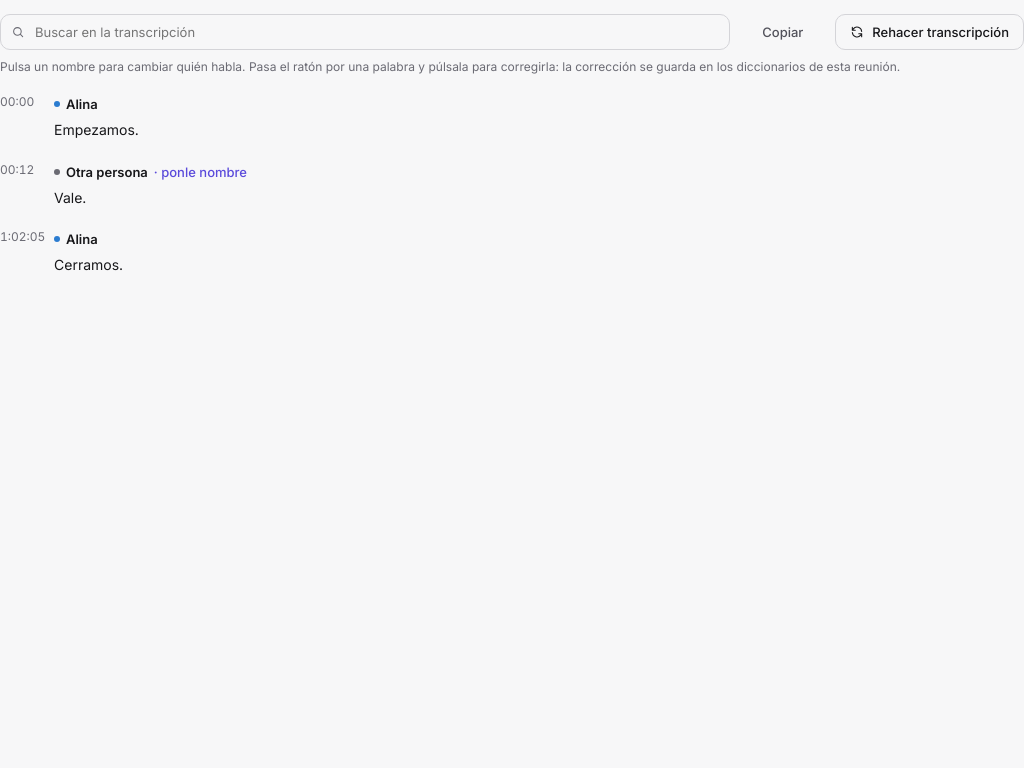
Test: opens a searchable speaker menu with the meeting's guests, excluding the owner
The image size is (1024, 768).
Step 1. Click the button "Otra persona · ponle nombre" → (150, 172), box [48, 160, 253, 184]
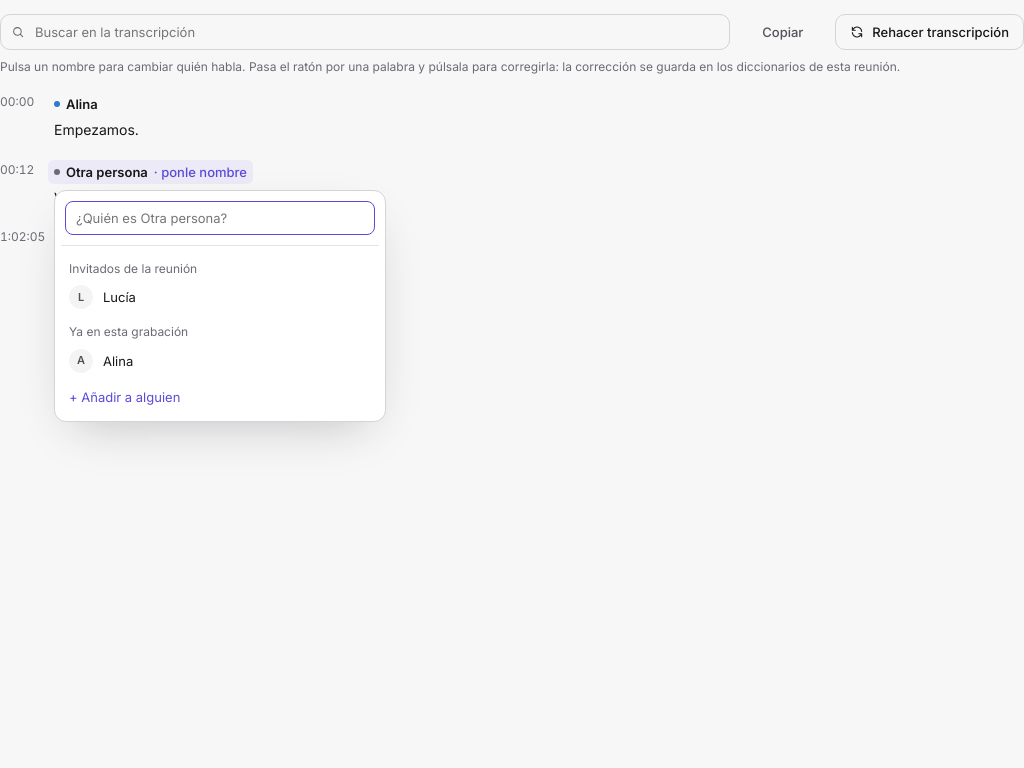
Now the text "Invitados de la reunión" is shown, box [69, 261, 197, 276]
Now the button "L Lucía" is shown, box [61, 279, 379, 315]
Now the button "+ Añadir a alguien" is shown, box [61, 379, 379, 415]
